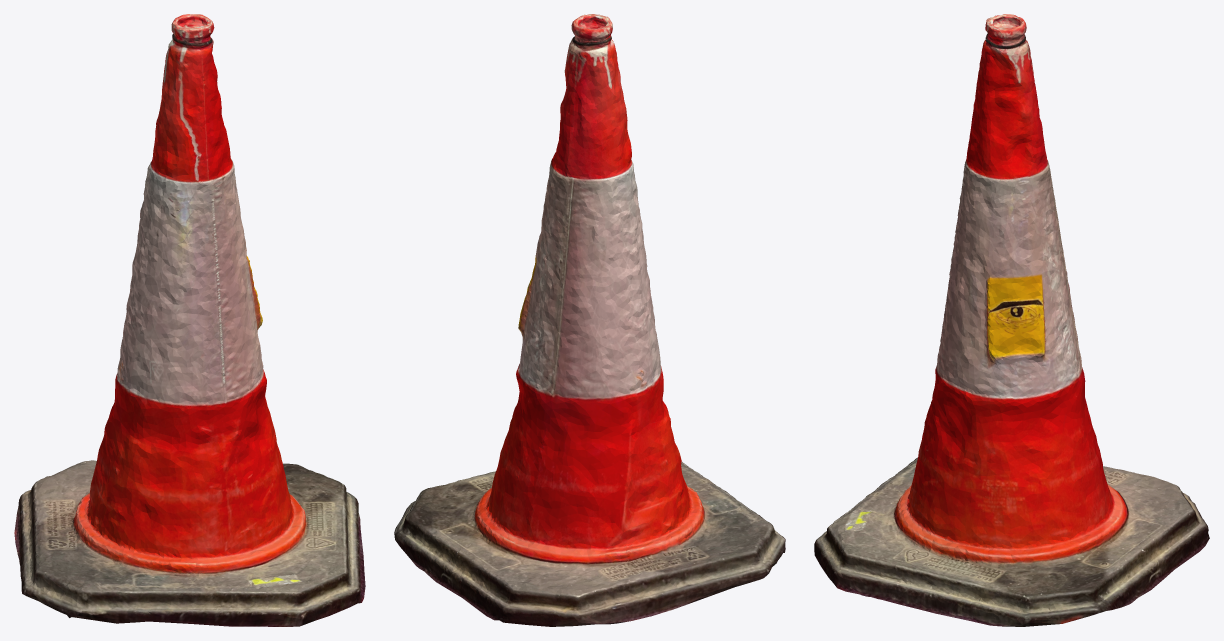
Rendered from metascan_20220212-0104.fbx.
The picture shows the model from 3 angles, left to right: view 1: azimuth 30°, elevation 25°; view 2: azimuth 150°, elevation 25°; view 3: azimuth 270°, elevation 25°; orthographic projection. The views are drawn at different scales.
Parts seen in each view (by area): view 1: Node 75684; view 2: Node 75684; view 3: Node 75684.
Part boxes in pixels (bbox=[...]): Node 75684: bbox=[14, 14, 365, 626]; Node 75684: bbox=[394, 14, 785, 626]; Node 75684: bbox=[814, 14, 1209, 626].
Bounding box in the file's own units: 0.5259 × 0.78 × 0.5294.
1 material, 1 textured.
